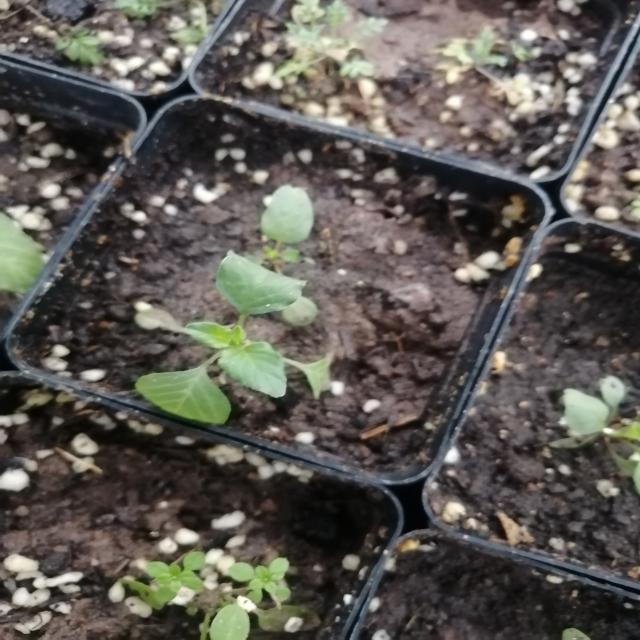pigweed: (137, 262, 345, 443)
